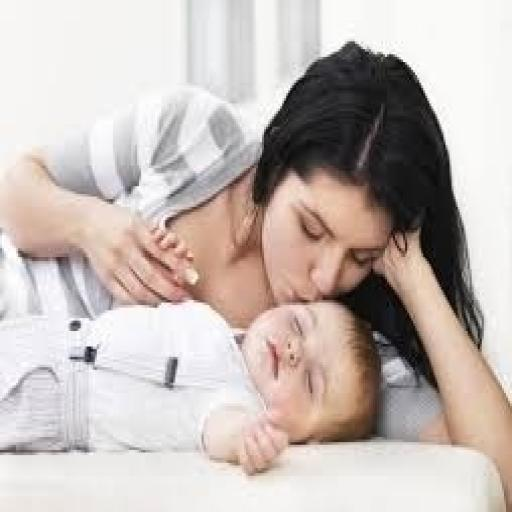sleeping: (0, 39, 510, 509), (0, 295, 385, 476)
